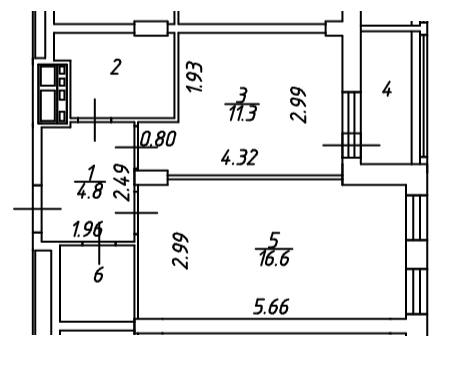balcony_door: (321, 129, 383, 158)
balcony_wall: (409, 29, 429, 165)
door: (11, 183, 64, 235), (111, 125, 160, 169), (113, 189, 162, 233), (76, 95, 114, 146), (79, 221, 117, 265)
vent_channel: (34, 86, 70, 125), (34, 59, 71, 90)
window: (404, 191, 430, 242), (403, 265, 429, 316), (338, 85, 364, 136)
